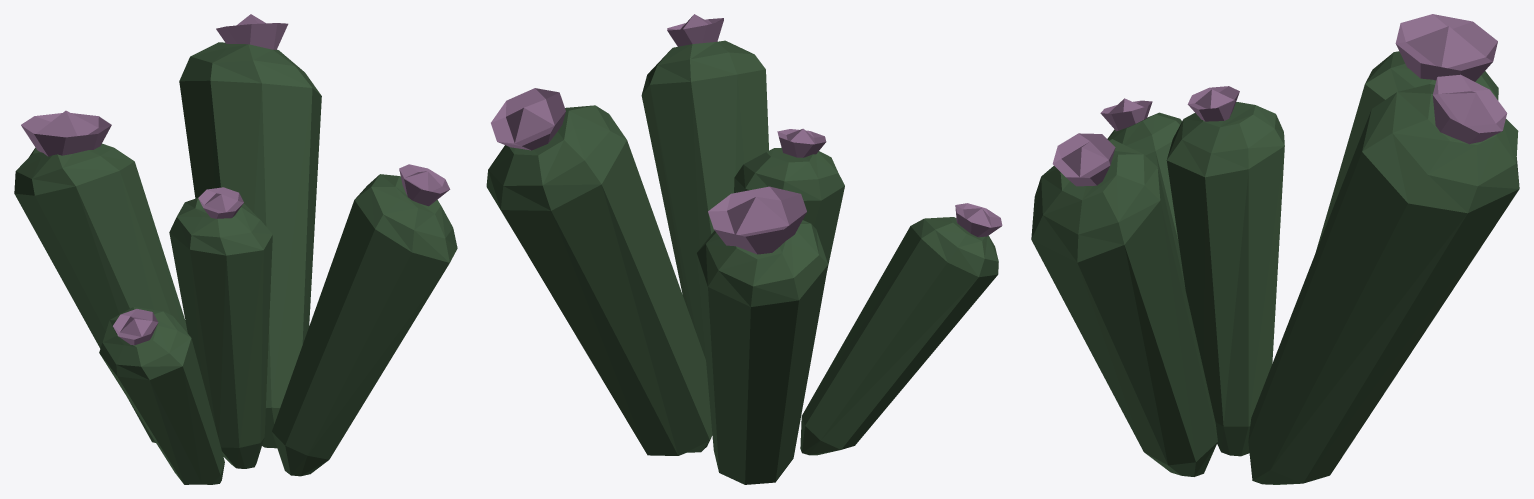
Rendered from Cactus03.fbx.
The picture shows the model from 3 angles, left to right: view 1: azimuth 30°, elevation 25°; view 2: azimuth 150°, elevation 25°; view 3: azimuth 270°, elevation 25°; orthographic projection. The views are drawn at different scales.
Parts seen in each view (by area): view 1: polySurface650; view 2: polySurface650; view 3: polySurface650.
Part boxes in pixels (x1,y1,x2,y2): polySurface650: (14, 14, 457, 484); polySurface650: (486, 14, 1002, 484); polySurface650: (1031, 14, 1519, 484).
Bounding box in the file's own units: 37.92 × 39.93 × 41.47.
